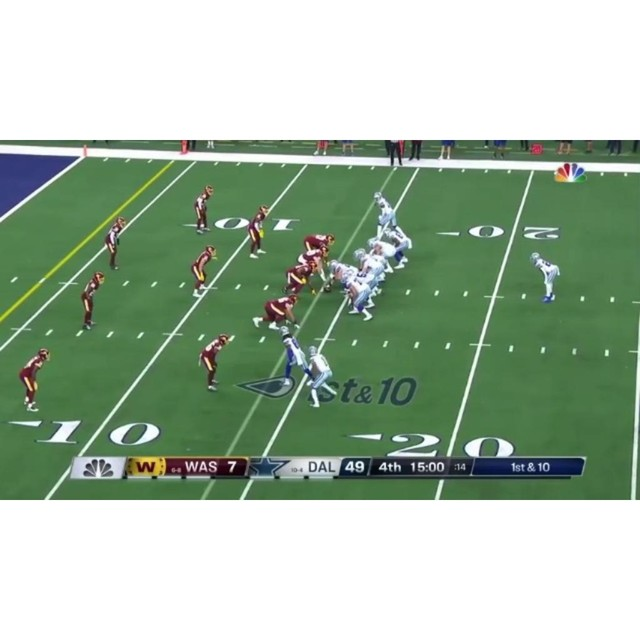american-football-player: (199, 333, 233, 392), (304, 346, 335, 408), (19, 349, 50, 411), (280, 327, 312, 383), (252, 294, 301, 330), (341, 275, 376, 321), (530, 251, 560, 302), (81, 271, 105, 330), (382, 224, 413, 268), (191, 245, 217, 296), (283, 260, 319, 296), (298, 246, 331, 284), (372, 191, 398, 238), (324, 258, 359, 292), (247, 205, 269, 259), (354, 249, 388, 283), (368, 237, 400, 273), (105, 216, 126, 270), (194, 184, 214, 233), (304, 234, 335, 256)
